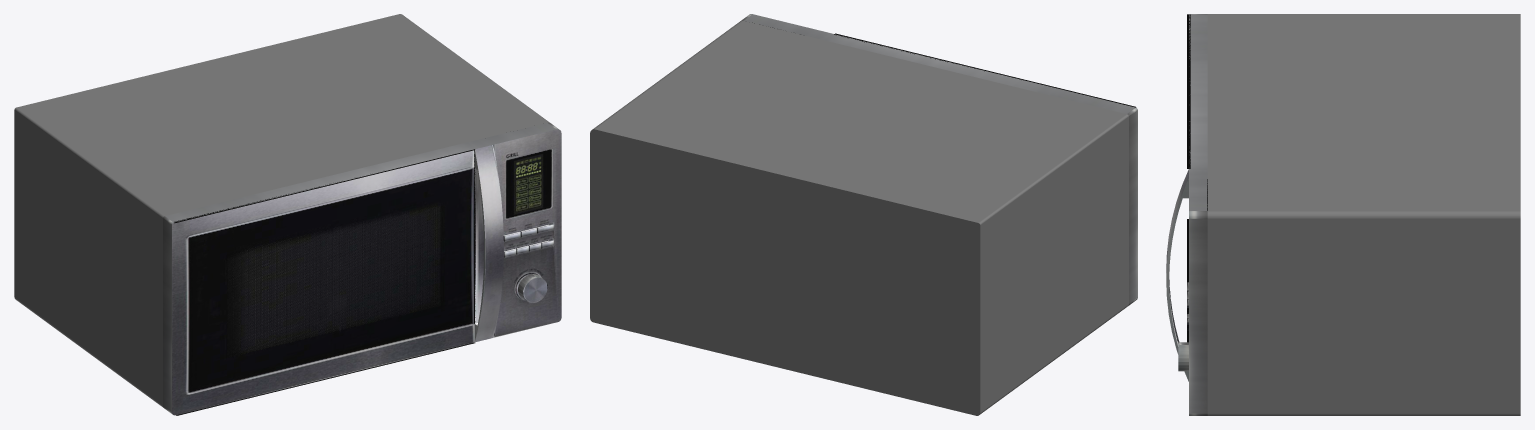
Rendered from SM_Toaster_1.fbx.
3 views of the same model, side by side, from view 1: azimuth 30°, elevation 25°; view 2: azimuth 150°, elevation 25°; view 3: azimuth 270°, elevation 25° (orthographic). The views are drawn at different scales.
Parts seen in each view (by area): view 1: GDLM1233_GDLM986_mLayer122_181.007; view 2: GDLM1233_GDLM986_mLayer122_181.007; view 3: GDLM1233_GDLM986_mLayer122_181.007.
Part boxes in pixels (x1,y1,x2,y2): GDLM1233_GDLM986_mLayer122_181.007: [14, 14, 561, 415]; GDLM1233_GDLM986_mLayer122_181.007: [590, 14, 1137, 415]; GDLM1233_GDLM986_mLayer122_181.007: [1166, 14, 1520, 415].
Size of the model in its own units: 0.475 by 0.225 by 0.355.
Materials: 4 (3 with a texture image).
